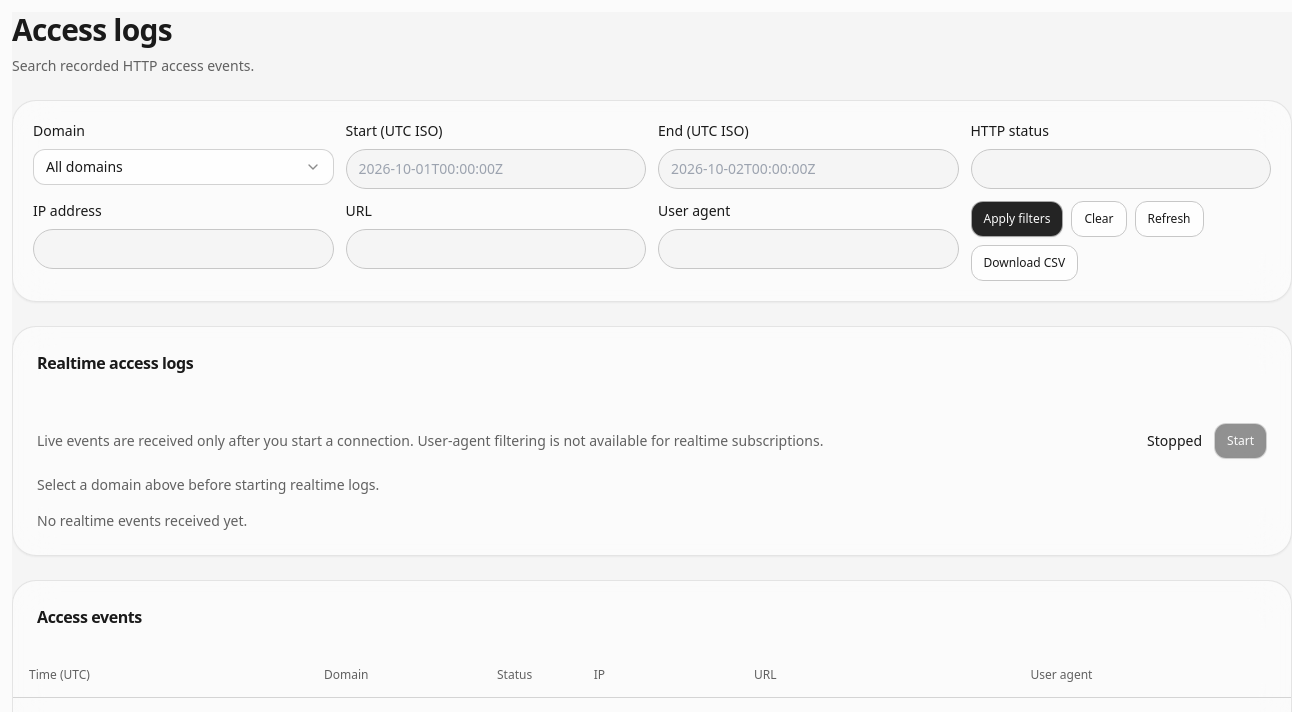
Test: AccessLogsPage › keeps at most 100 live logs and reports server and handshake errors without reconnecting
The width and height of the screenshot is (1292, 712).
Click the dropdown labelled "domain" at (84, 166), box [33,149,334,185]
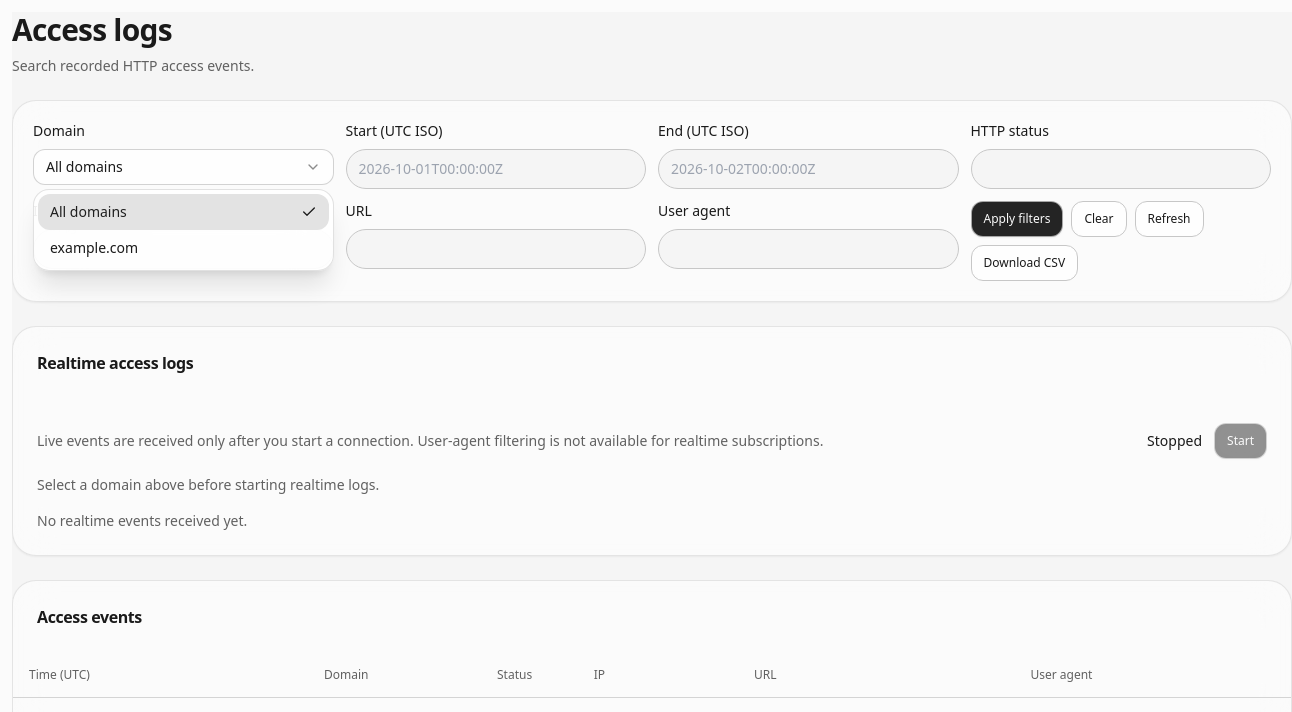
Click the option "example.com" at (94, 248), box [50,238,138,257]
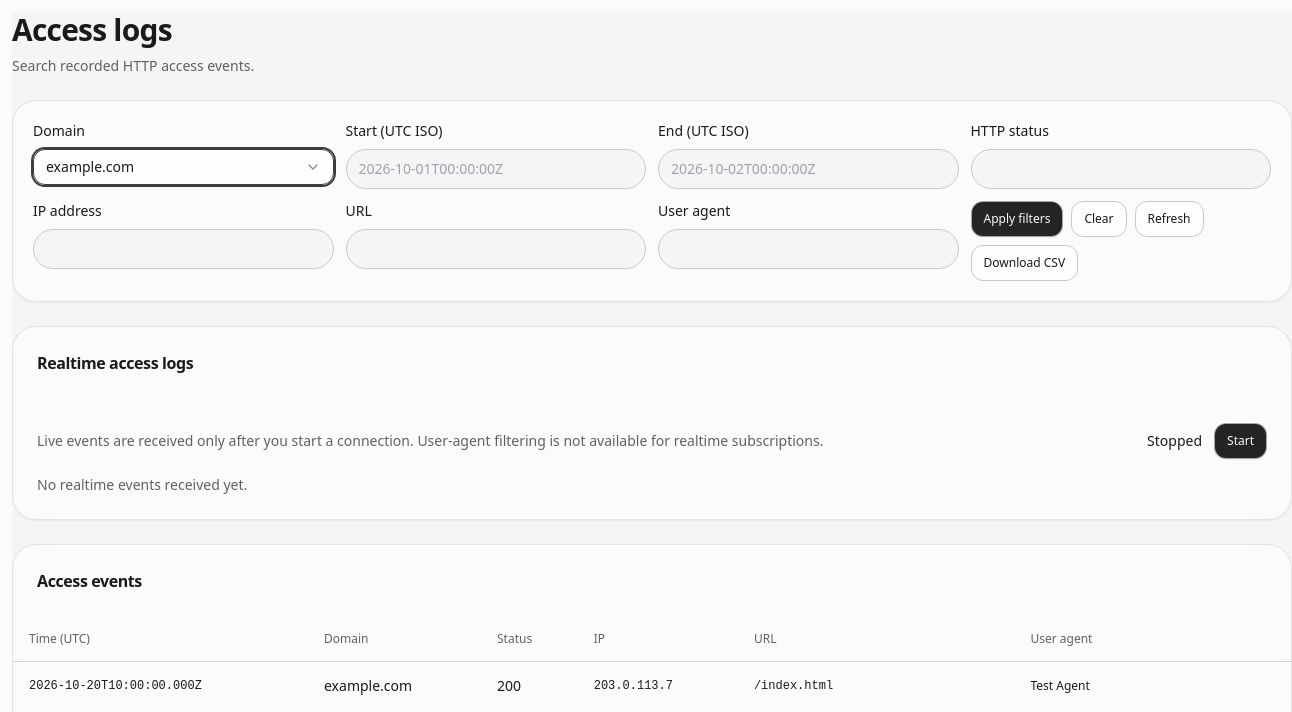
Click the button "Start" at (1240, 441), box [1214,423,1267,459]
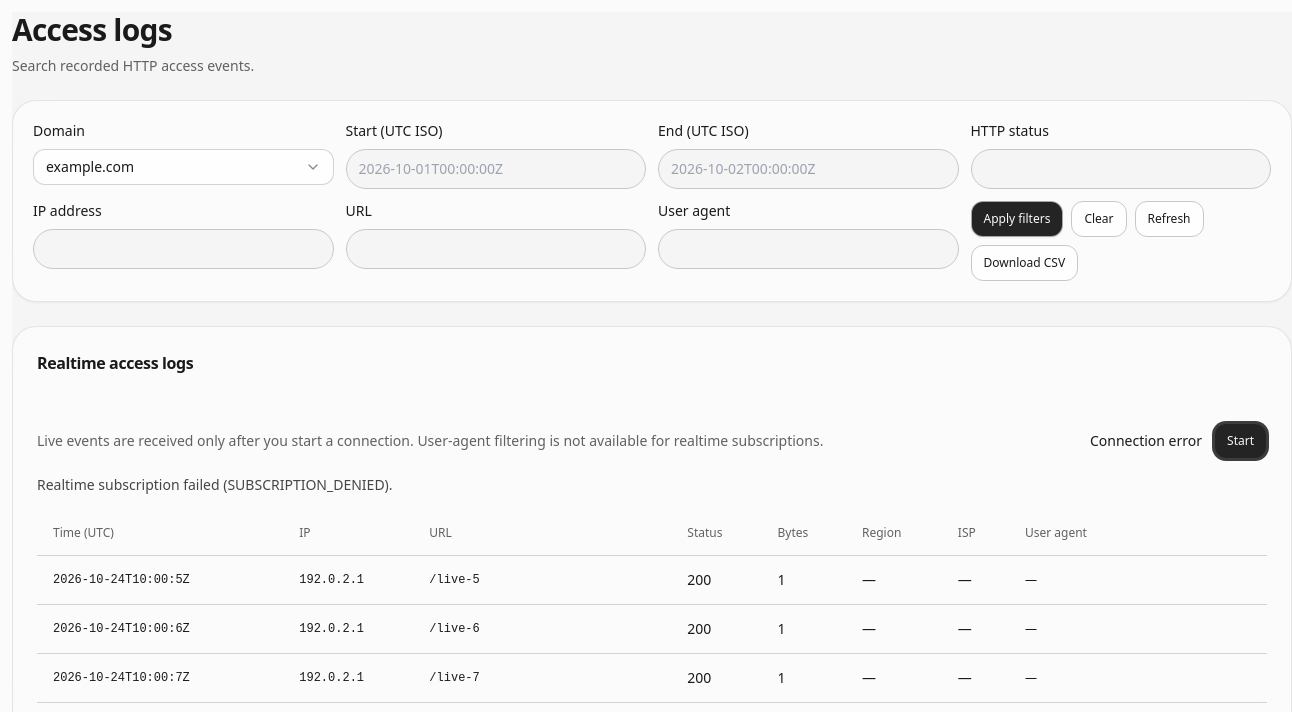
Expected: the message "Realtime subscription failed (SUBSCRIPTION_DENIED)." is shown, [37,475,393,494]
Click the button "Start" at (1240, 441), box [1214,423,1267,459]
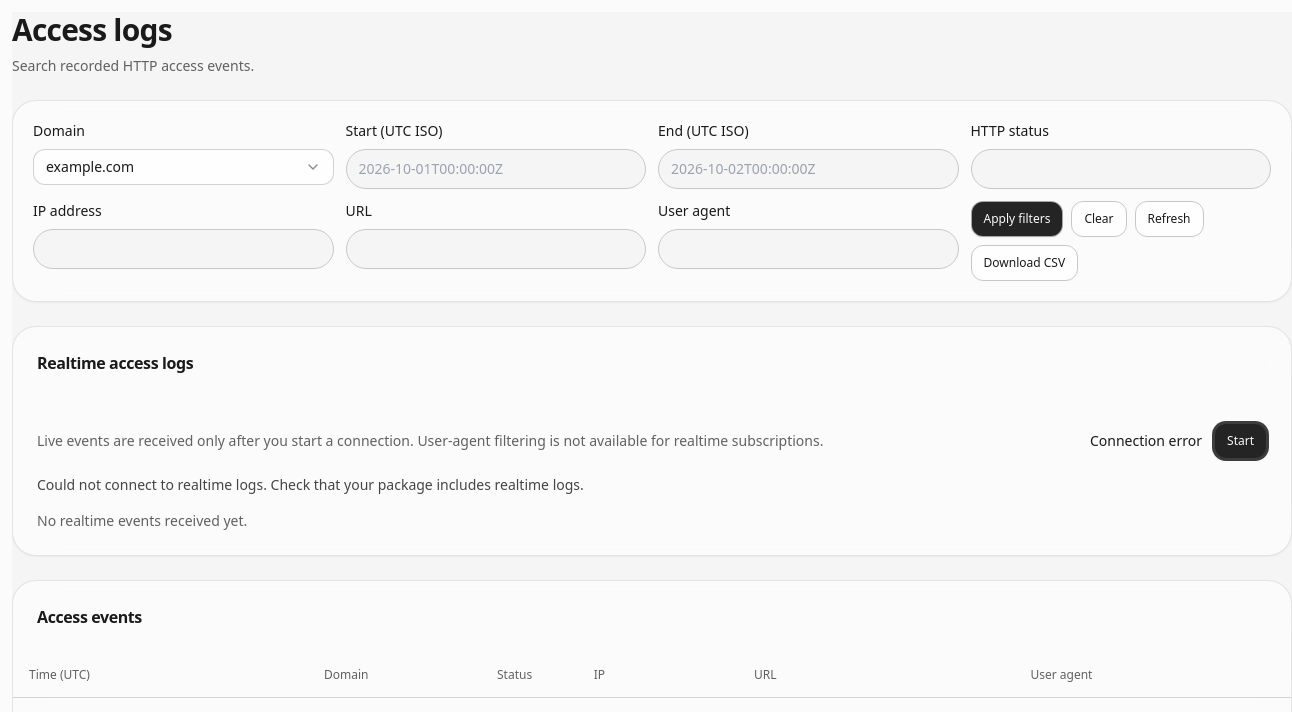
Expected: the 2nd message shows "Could not connect to realtime logs.", [37,475,584,494]
